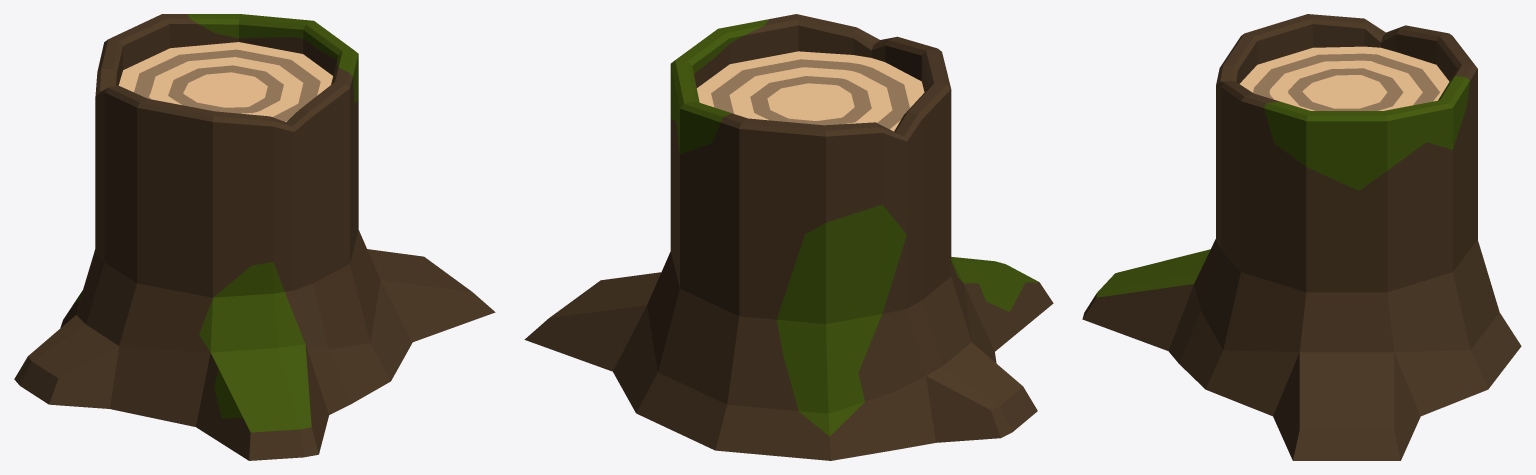
Rendered from Tree Stump 3.fbx.
3 views of the same model, side by side, from view 1: azimuth 30°, elevation 25°; view 2: azimuth 150°, elevation 25°; view 3: azimuth 270°, elevation 25° (orthographic). The views are drawn at different scales.
Parts seen in each view (by area): view 1: Tree Stump Moss 1; view 2: Tree Stump Moss 1; view 3: Tree Stump Moss 1.
Part boxes in pixels (x1,y1,x2,y2): Tree Stump Moss 1: (14, 14, 495, 460); Tree Stump Moss 1: (524, 14, 1053, 460); Tree Stump Moss 1: (1082, 14, 1521, 460).
Bounding box in the file's own units: 47.43 × 29.86 × 42.21.
